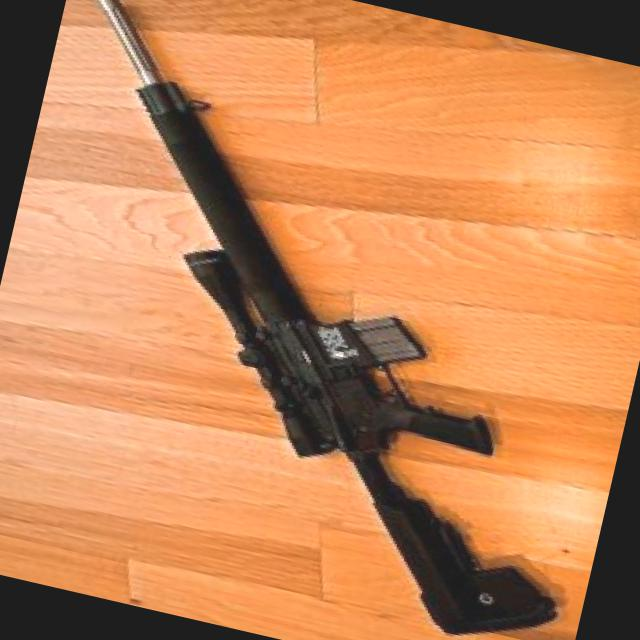long weapon: (63, 0, 582, 640)
